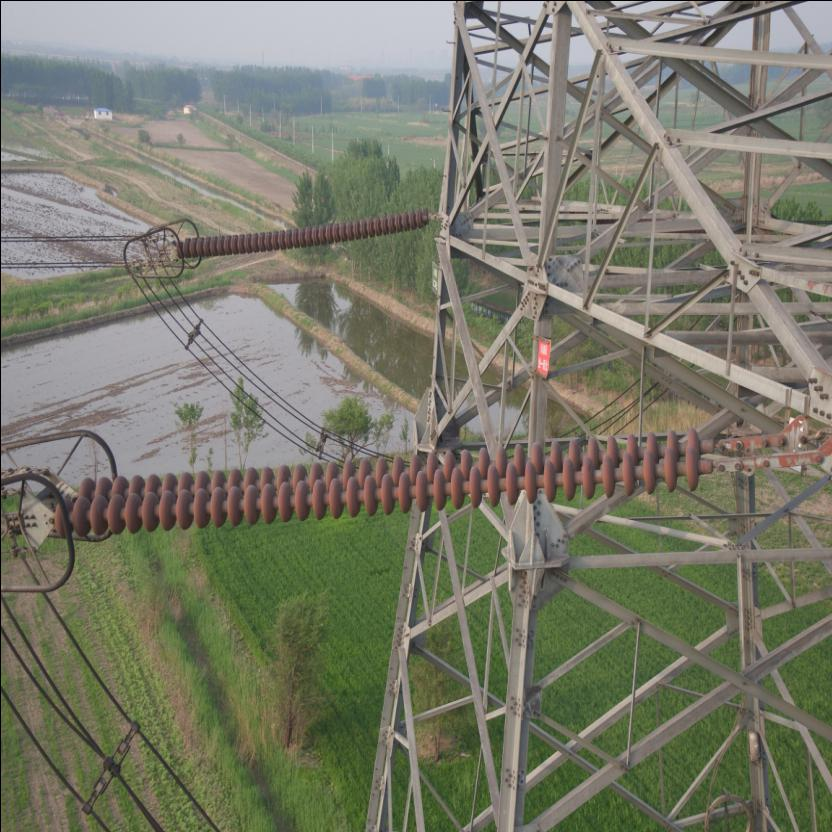insulator: (42, 422, 770, 544), (172, 201, 436, 259)
